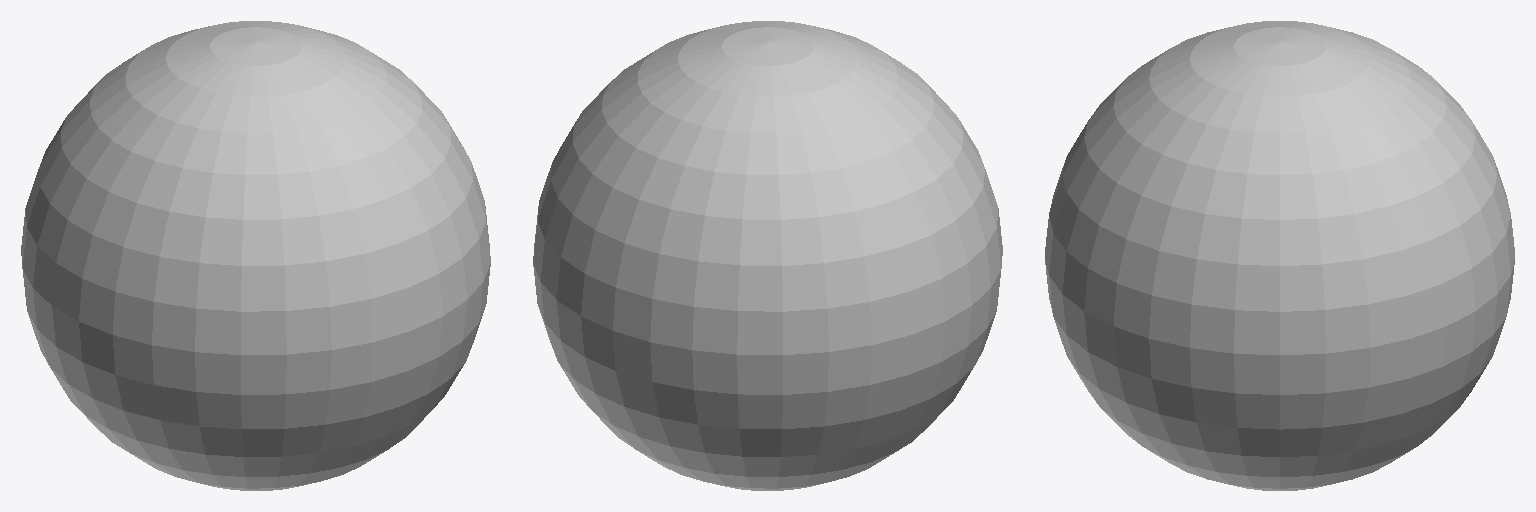
File: venus.obj
3 views of the same model, side by side, from view 1: azimuth 30°, elevation 25°; view 2: azimuth 150°, elevation 25°; view 3: azimuth 270°, elevation 25° (orthographic).
Parts seen in each view (by area): view 1: Sphere.009; view 2: Sphere.009; view 3: Sphere.009.
Boxes of the visible parts, x1,y1,x2,y2 form: Sphere.009: [21, 21, 490, 490]; Sphere.009: [533, 21, 1002, 490]; Sphere.009: [1045, 21, 1514, 490].
Size of the model in its own units: 1.65 by 1.65 by 1.65.